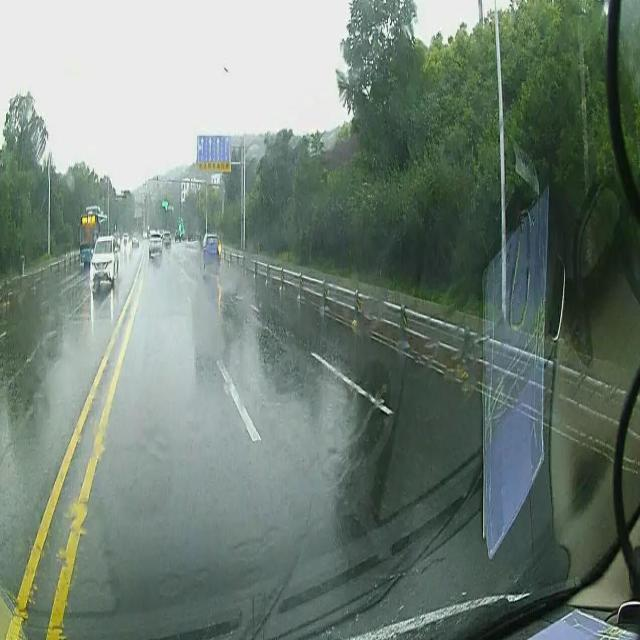car: (90, 234, 120, 290), (200, 232, 222, 272), (148, 232, 162, 254), (162, 230, 170, 247), (132, 232, 140, 246), (174, 231, 182, 241)
